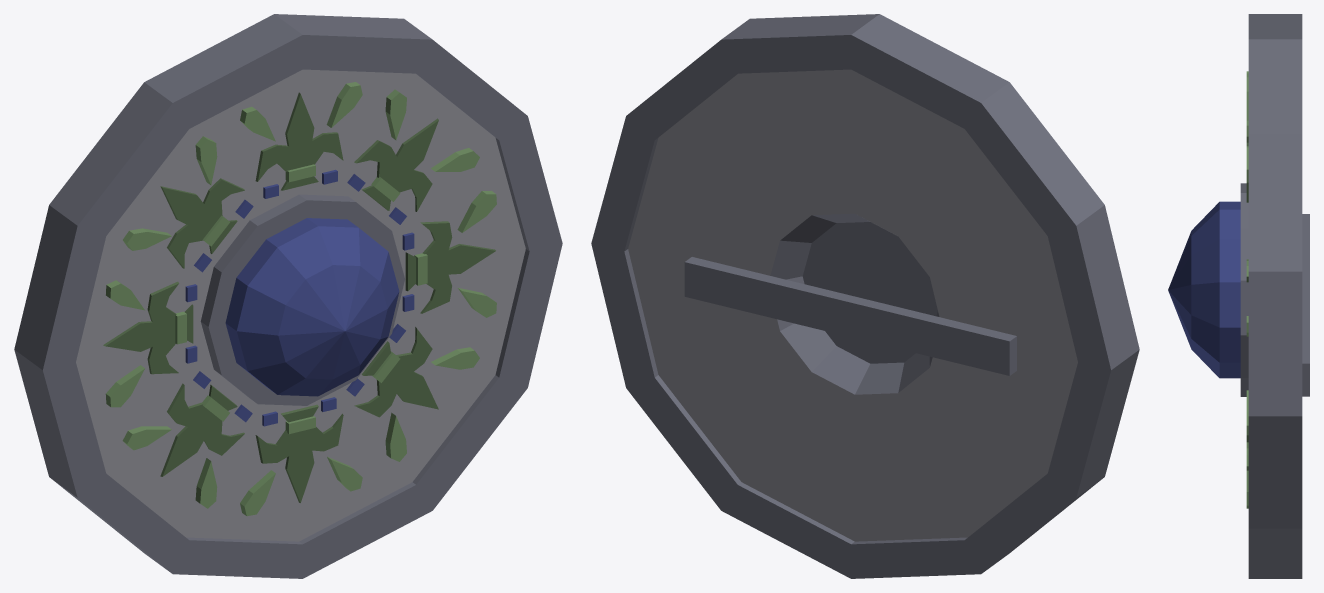
File: shield_shield_11.glb
3 views of the same model, side by side, from view 1: azimuth 30°, elevation 25°; view 2: azimuth 150°, elevation 25°; view 3: azimuth 270°, elevation 25° (orthographic). The views are drawn at different scales.
Visible parts, largest first — view 1: shield_11; view 2: shield_11; view 3: shield_11.
Part boxes in pixels (<box>): shield_11: <box>14,14,562,578</box>; shield_11: <box>591,14,1139,578</box>; shield_11: <box>1168,14,1309,578</box>.
Bounding box in the file's own units: 66.67 × 66.67 × 16.69.
1 material, 1 textured.
